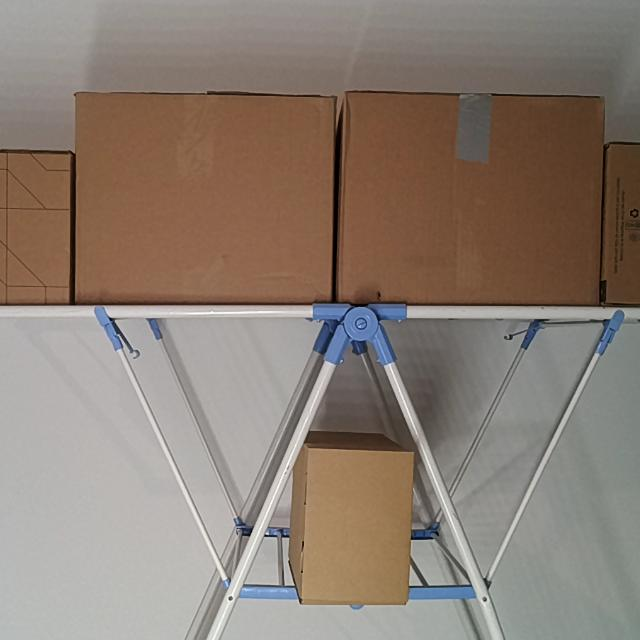box: (341, 94, 605, 302), (75, 92, 334, 301), (305, 449, 411, 603), (0, 152, 72, 304), (606, 141, 640, 303)
